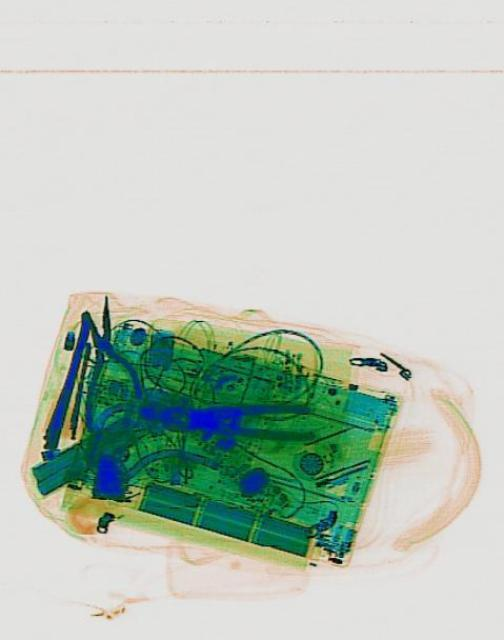Pliers: (60, 287, 145, 428), (187, 399, 311, 438)
